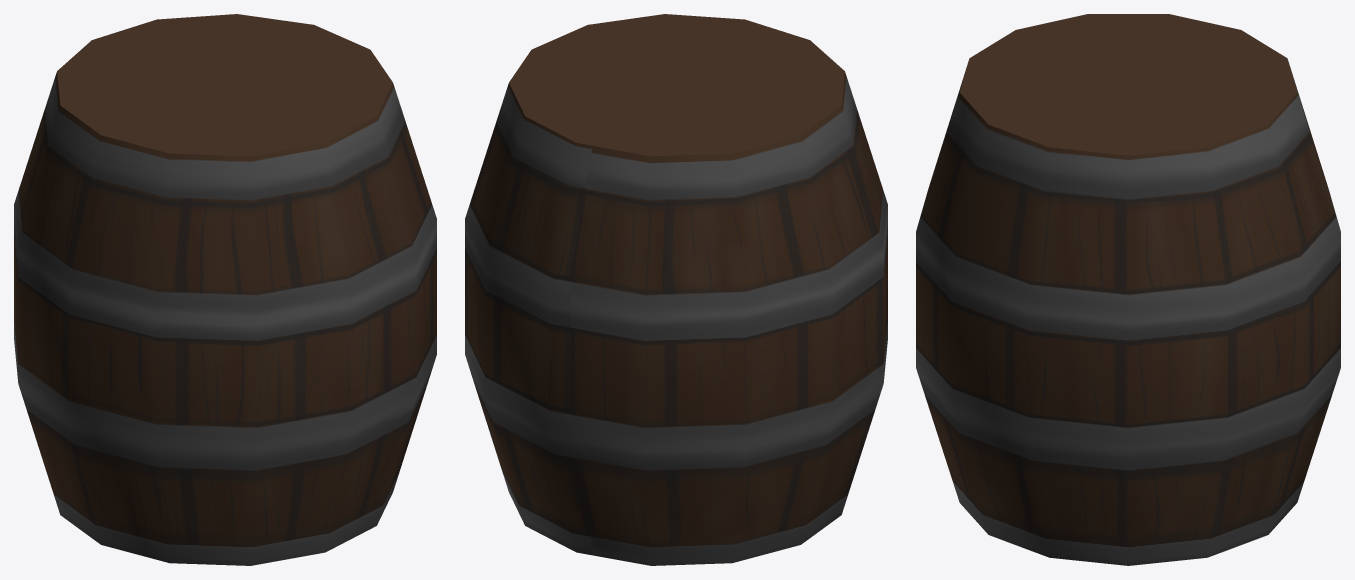
Rendered from barrel.fbx.
3 renders of one model, left to right at view 1: azimuth 30°, elevation 25°; view 2: azimuth 150°, elevation 25°; view 3: azimuth 270°, elevation 25°, orthographic.
Visible parts, largest first — view 1: Cylinder011; view 2: Cylinder011; view 3: Cylinder011.
Part boxes in pixels (box(x1,y1,x2,y2)): Cylinder011: box(14, 14, 436, 565); Cylinder011: box(465, 14, 887, 565); Cylinder011: box(916, 14, 1340, 565).
Bounding box in the file's own units: 114 × 115 × 122.
1 material, 1 textured.
